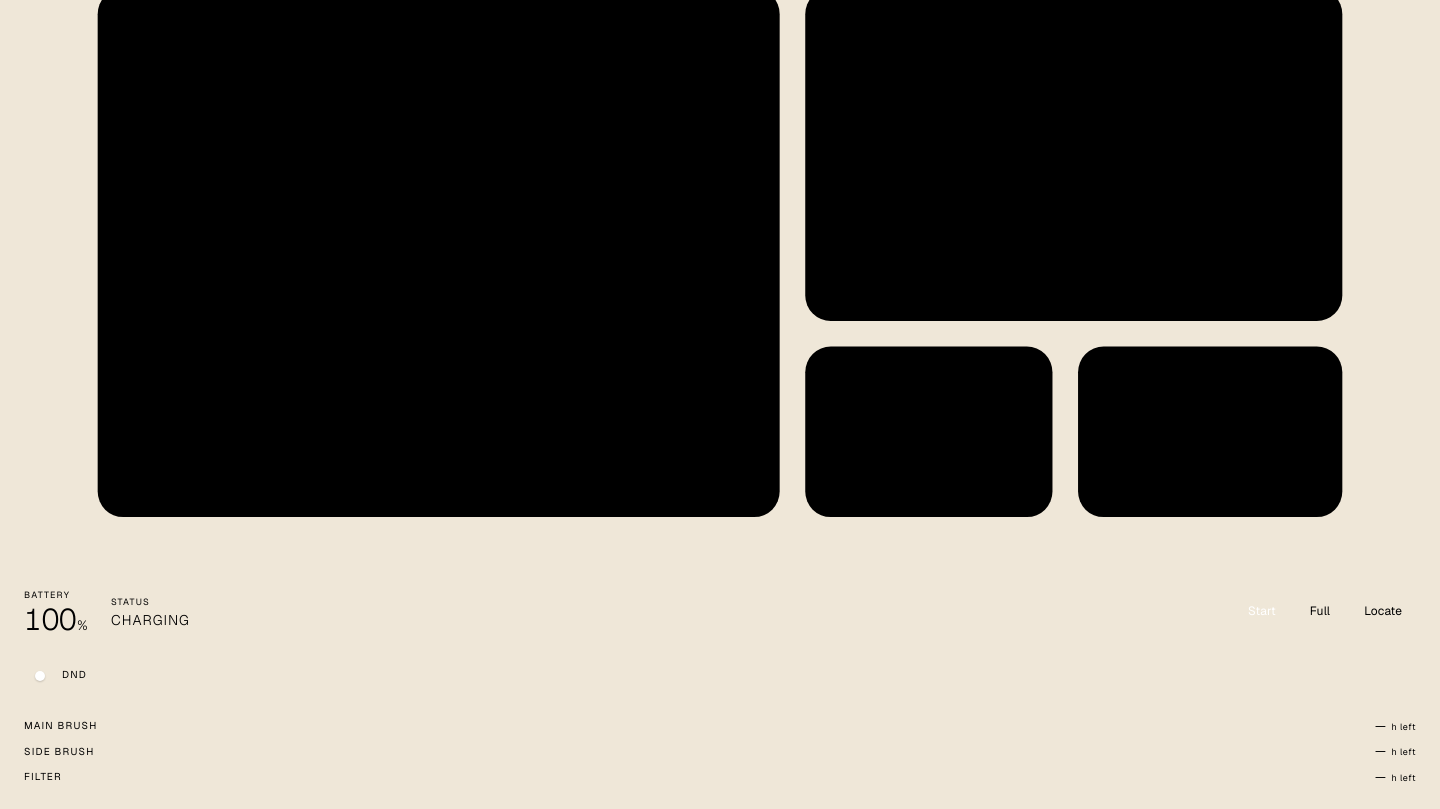
Test: M11: nothing claims a clean HA never confirmed › a Start the vacuum DID act on stays cleaning past the settle window
(page scrolled)
Click the button "Start". click: (1262, 611)
box: [1234, 595, 1290, 627]
Wait 8100 ms
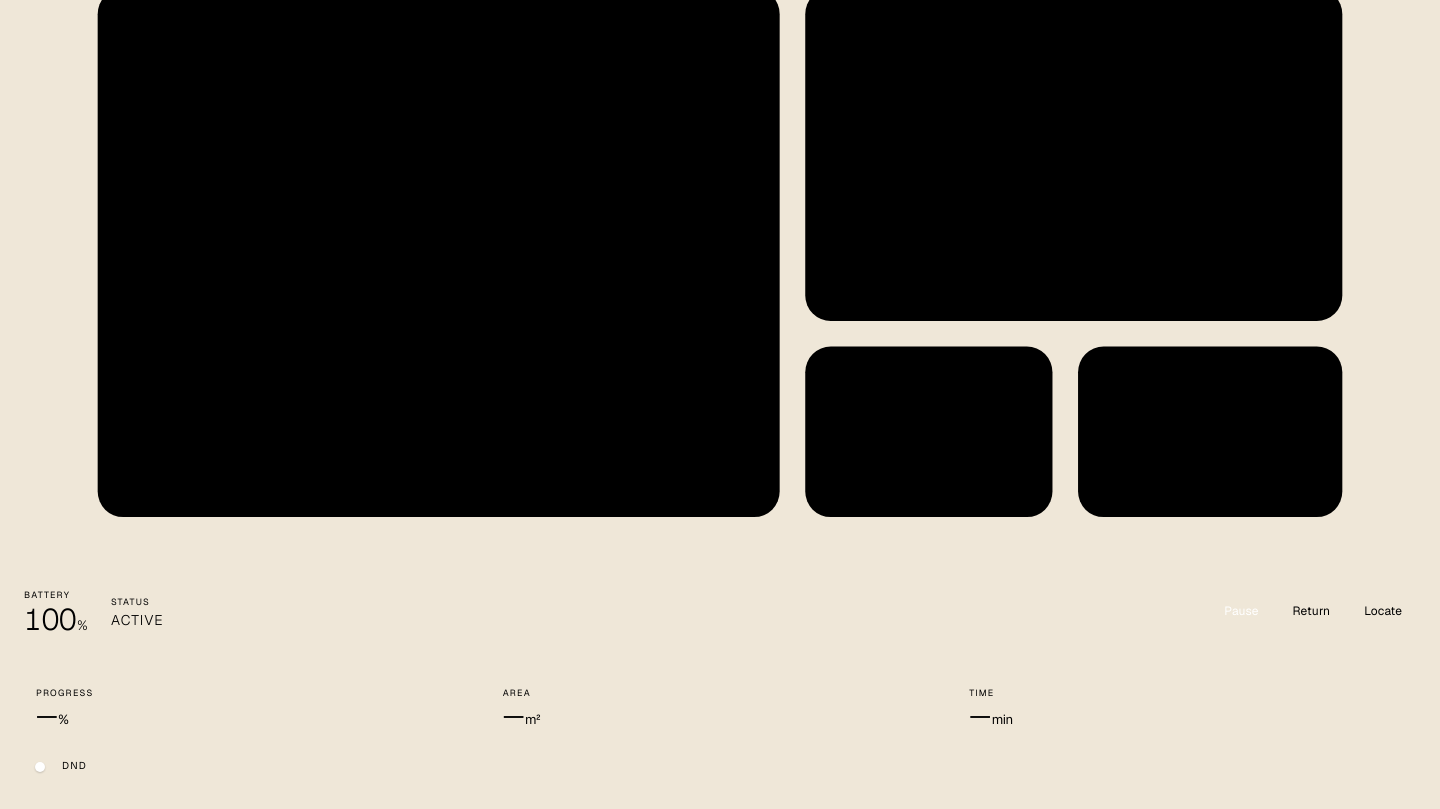
Now the text with class "small" reads "ACTIVE", box [111, 610, 164, 628]
Now the button "Pause" is shown, box [1210, 595, 1273, 627]
